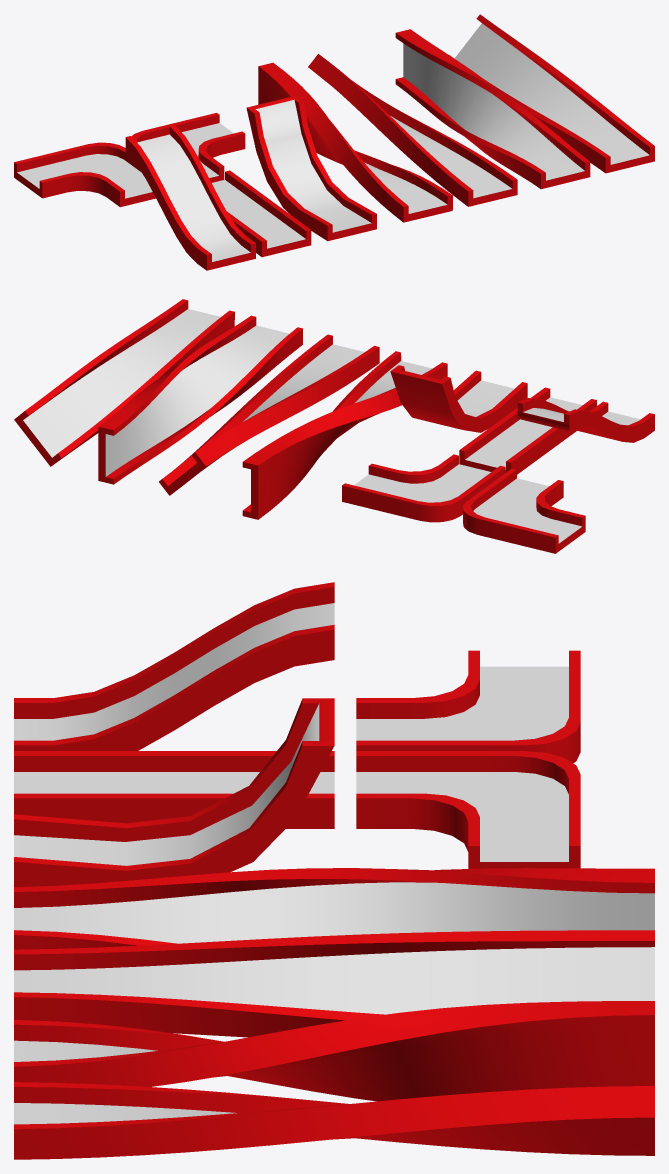
File: roads.fbx
3 renders of one model, top to bottom at view 1: azimuth 30°, elevation 25°; view 2: azimuth 150°, elevation 25°; view 3: azimuth 270°, elevation 25°, orthographic. The views are drawn at different scales.
Parts seen in each view (by area): view 1: StraightCurvedLeft90, StraightCurvedLeft45, StraightLoop, StraightClimb, StraightCurvedRight45, StraightCurvedRight90, Turned90Left, Straight, Turned90Right; view 2: StraightCurvedLeft90, StraightCurvedLeft45, StraightCurvedRight45, StraightCurvedRight90, Turned90Left, Turned90Right, StraightLoop, Straight, StraightClimb; view 3: StraightCurvedRight45, StraightCurvedLeft90, StraightCurvedRight90, StraightCurvedLeft45, StraightClimb, StraightLoop, Turned90Right, Straight, Turned90Left.
Boxes of the visible parts, bbox=[...] form: StraightCurvedLeft90: bbox=[395, 29, 590, 189]; StraightCurvedLeft45: bbox=[449, 14, 654, 173]; StraightLoop: bbox=[246, 95, 376, 241]; StraightClimb: bbox=[125, 125, 255, 270]; StraightCurvedRight45: bbox=[308, 54, 517, 206]; StraightCurvedRight90: bbox=[258, 62, 452, 222]; Turned90Left: bbox=[14, 142, 155, 207]; Straight: bbox=[212, 170, 311, 257]; Turned90Right: bbox=[131, 113, 245, 182]; StraightCurvedLeft90: bbox=[98, 315, 302, 484]; StraightCurvedLeft45: bbox=[14, 299, 234, 466]; StraightCurvedRight45: bbox=[159, 334, 379, 495]; StraightCurvedRight90: bbox=[242, 351, 447, 519]; Turned90Left: bbox=[463, 468, 585, 553]; Turned90Right: bbox=[342, 454, 505, 522]; StraightLoop: bbox=[390, 365, 527, 432]; Straight: bbox=[459, 387, 596, 474]; StraightClimb: bbox=[517, 398, 654, 442]; StraightCurvedRight45: bbox=[14, 930, 654, 1037]; StraightCurvedLeft90: bbox=[14, 1001, 654, 1101]; StraightCurvedRight90: bbox=[14, 868, 654, 949]; StraightCurvedLeft45: bbox=[14, 1082, 654, 1159]; StraightClimb: bbox=[14, 582, 334, 750]; StraightLoop: bbox=[14, 698, 334, 887]; Turned90Right: bbox=[356, 751, 580, 868]; Straight: bbox=[14, 751, 334, 828]; Turned90Left: bbox=[356, 650, 580, 763].
Size of the model in its own units: 7085 by 1269 by 4000.
